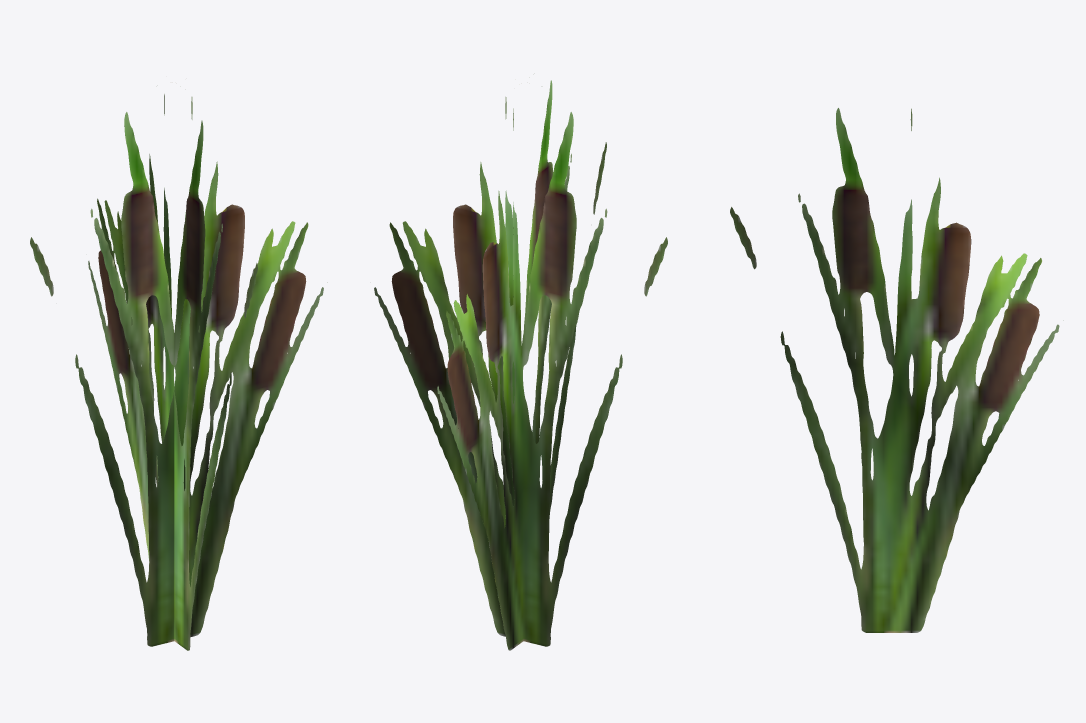
File: Reed.fbx
3 views of the same model, side by side, from view 1: azimuth 30°, elevation 25°; view 2: azimuth 150°, elevation 25°; view 3: azimuth 270°, elevation 25° (orthographic). The views are drawn at different scales.
Parts seen in each view (by area): view 1: Reed; view 2: Reed; view 3: Reed.
Boxes of the visible parts, x1,y1,x2,y2 form: Reed: (30, 94, 327, 650); Reed: (374, 80, 667, 650); Reed: (730, 108, 1063, 632).
Bounding box in the file's own units: 0.6 × 1 × 0.6.
